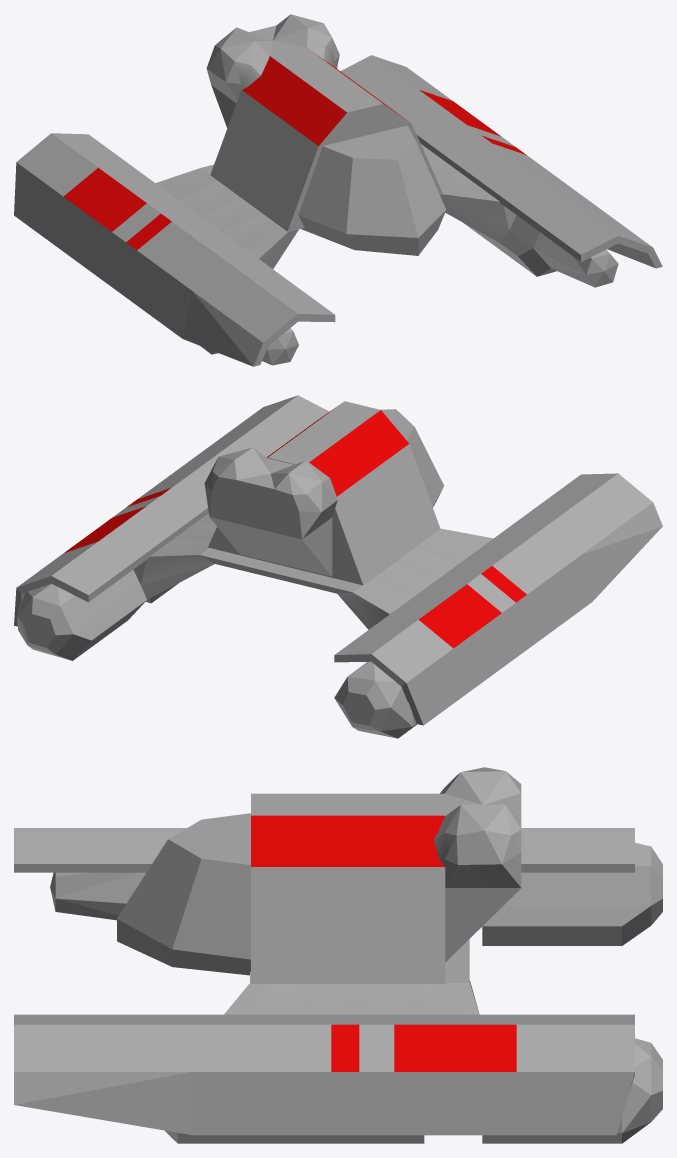
The model's file is Heleur_LND.fbx.
The picture shows the model from 3 angles, top to bottom: view 1: azimuth 30°, elevation 25°; view 2: azimuth 150°, elevation 25°; view 3: azimuth 270°, elevation 25°; orthographic projection. The views are drawn at different scales.
Parts seen in each view (by area): view 1: Engine_Armor_Right, Middle_Cockpit, Engine_Armor_Left, Cockpit, Engines, Rear_Cockpit; view 2: Engine_Armor_Right, Engines, Middle_Cockpit, Engine_Armor_Left, Rear_Cockpit, Cockpit; view 3: Engine_Armor_Left, Middle_Cockpit, Engines, Cockpit, Rear_Cockpit, Engine_Armor_Right.
Boxes of the visible parts, left/top/right/bottom form: Engine_Armor_Right: left=14, top=133, right=335, bottom=366; Middle_Cockpit: left=210, top=47, right=442, bottom=231; Engine_Armor_Left: left=340, top=55, right=662, bottom=268; Cockpit: left=298, top=125, right=446, bottom=255; Engines: left=155, top=144, right=618, bottom=365; Rear_Cockpit: left=206, top=14, right=339, bottom=127; Engine_Armor_Right: left=334, top=473, right=662, bottom=725; Engines: left=17, top=513, right=493, bottom=738; Middle_Cockpit: left=208, top=401, right=440, bottom=585; Engine_Armor_Left: left=14, top=395, right=329, bottom=626; Rear_Cockpit: left=204, top=447, right=337, bottom=576; Cockpit: left=380, top=409, right=444, bottom=507; Engine_Armor_Left: left=14, top=1014, right=634, bottom=1135; Middle_Cockpit: left=251, top=793, right=445, bottom=983; Engines: left=50, top=842, right=662, bottom=1143; Cockpit: left=117, top=813, right=250, bottom=975; Rear_Cockpit: left=433, top=767, right=521, bottom=962; Engine_Armor_Right: left=14, top=828, right=634, bottom=872.
Bounding box in the file's own units: 114 × 52.12 × 125.
